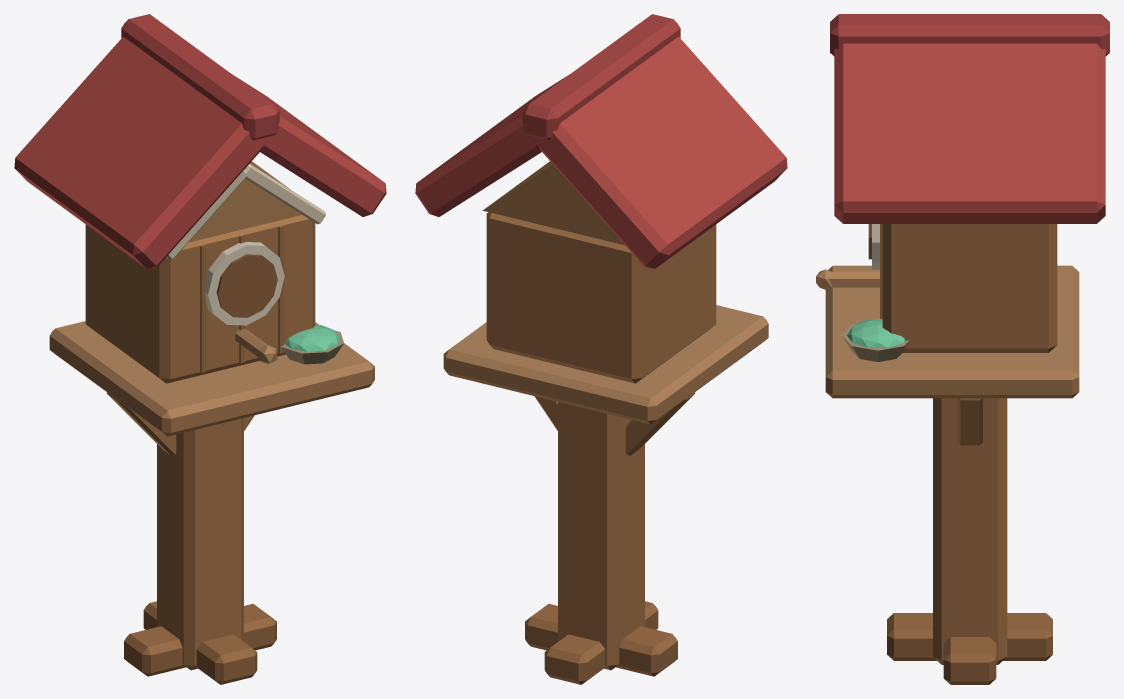
File: ranch_birdhouse.fbx
3 renders of one model, left to right at view 1: azimuth 30°, elevation 25°; view 2: azimuth 150°, elevation 25°; view 3: azimuth 270°, elevation 25°, orthographic. The views are drawn at different scales.
Visible parts, largest first — view 1: ranch_birdhouse; view 2: ranch_birdhouse; view 3: ranch_birdhouse.
Boxes of the visible parts, <box> form: ranch_birdhouse: <box>14,14,386,684</box>; ranch_birdhouse: <box>415,14,787,684</box>; ranch_birdhouse: <box>816,14,1109,684</box>.
Size of the model in its own units: 3.57 by 7.99 by 3.36.
